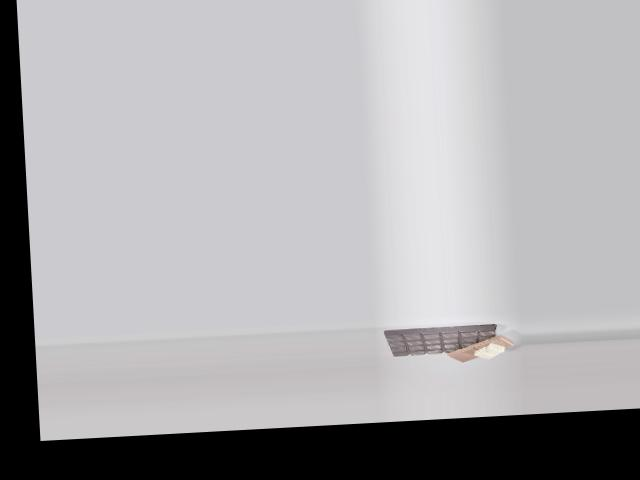chocolate: (383, 319, 505, 361)
